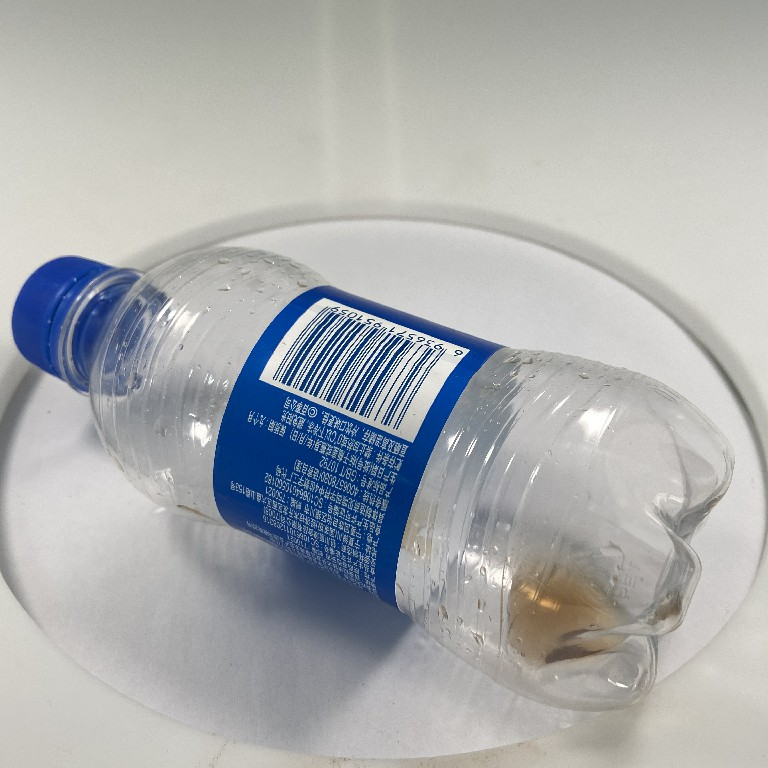bottle: (7, 243, 742, 715)
